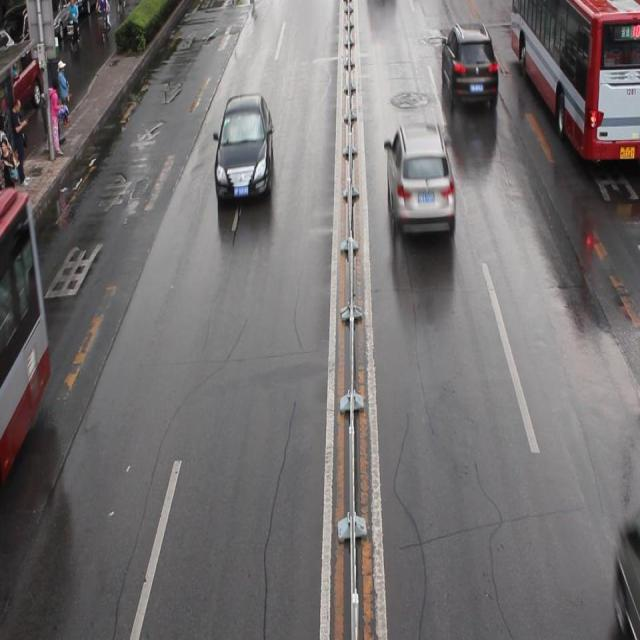car: (386, 119, 454, 235), (214, 94, 272, 202), (440, 24, 498, 105), (1, 46, 46, 121)
van: (509, 1, 640, 160), (1, 188, 50, 492)
